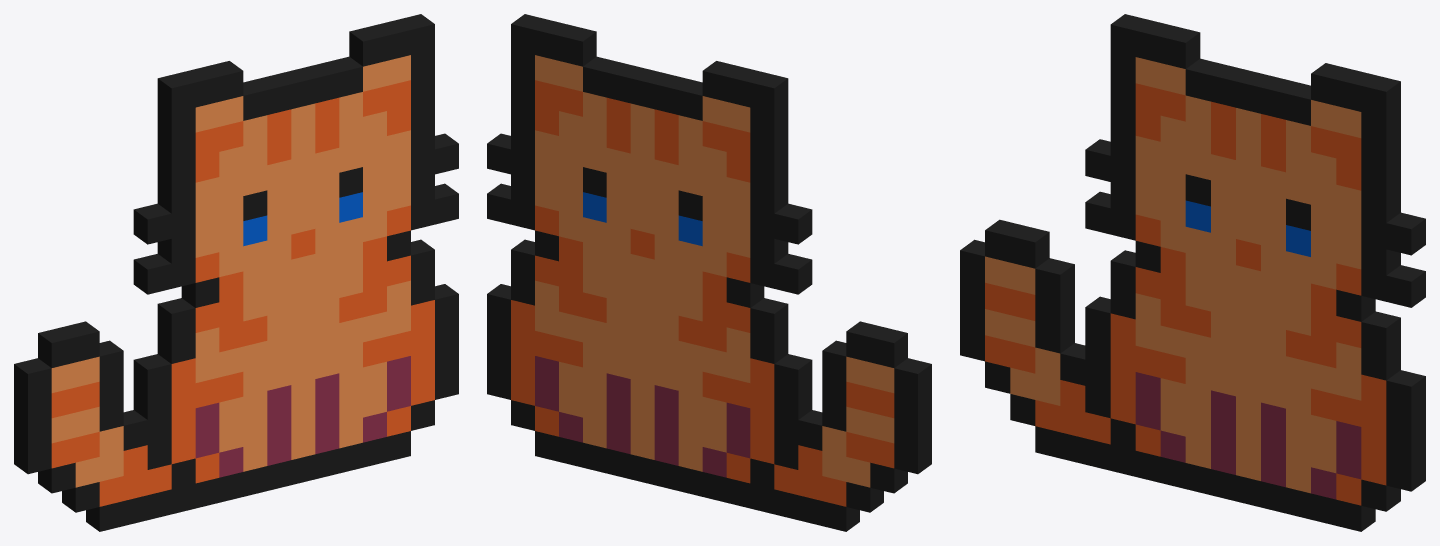
The model's file is orange-cat.gltf.
3 renders of one model, left to right at view 1: azimuth 30°, elevation 25°; view 2: azimuth 150°, elevation 25°; view 3: azimuth 330°, elevation 25°, orthographic. The views are drawn at different scales.
Parts seen in each view (by area): view 1: node 1; view 2: node 1; view 3: node 1.
Boxes of the visible parts, x1,y1,x2,y2 form: node 1: [14, 14, 458, 531]; node 1: [487, 14, 931, 531]; node 1: [960, 14, 1425, 531].
Bounding box in the file's own units: 18 × 17 × 1.
Materials: 1 (1 with a texture image).
